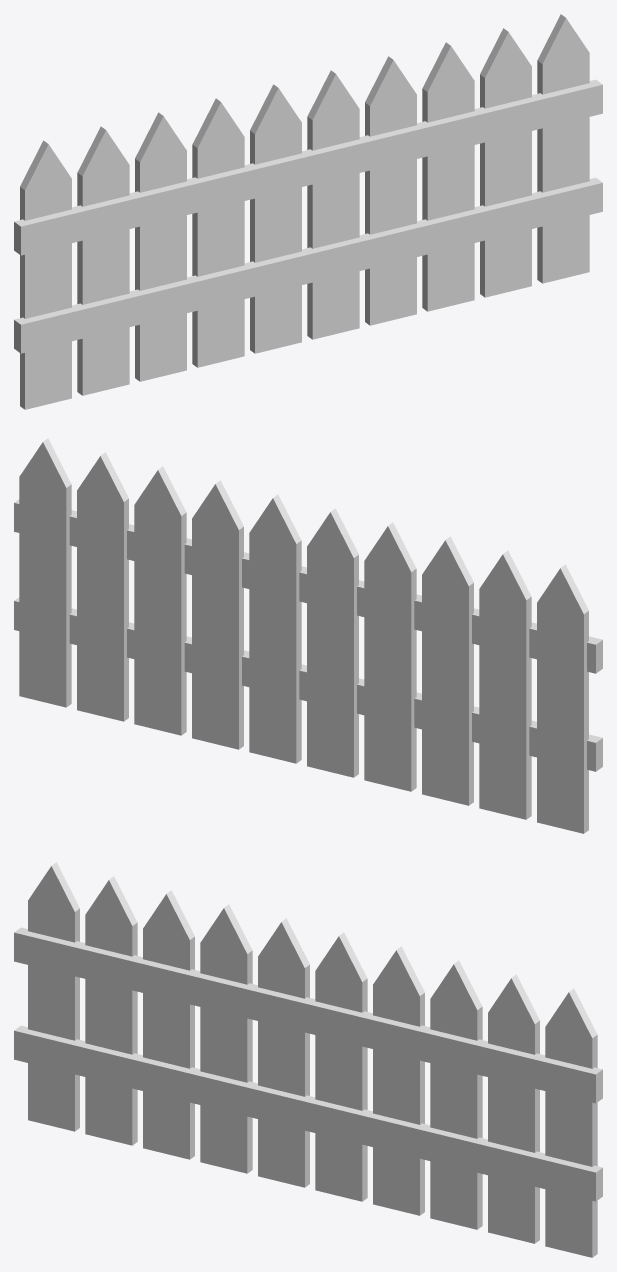
Rendered from fence_015.glb.
3 renders of one model, top to bottom at view 1: azimuth 30°, elevation 25°; view 2: azimuth 150°, elevation 25°; view 3: azimuth 330°, elevation 25°, orthographic.
Parts seen in each view (by area): view 1: fence_015.081; view 2: fence_015.081; view 3: fence_015.081.
Part boxes in pixels (<box>): fence_015.081: <box>14,14,602,409</box>; fence_015.081: <box>14,438,602,833</box>; fence_015.081: <box>14,862,602,1257</box>.
Bounding box in the file's own units: 2.56 × 1.09 × 0.0768.
Materials: 1 (1 with a texture image).
